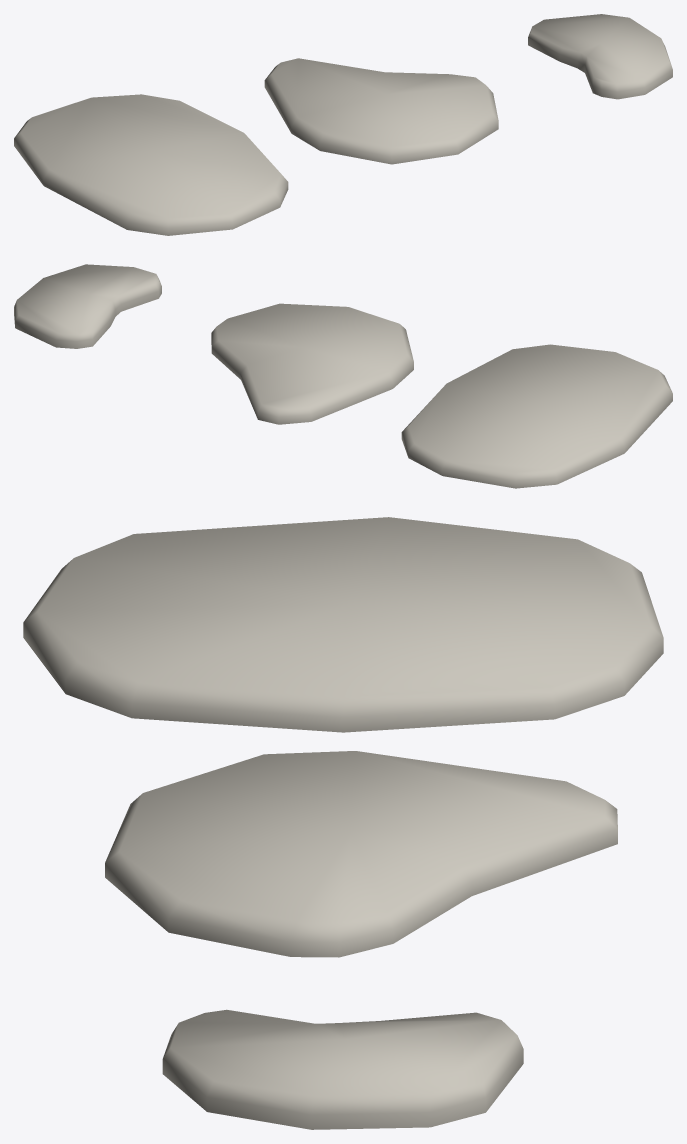
Rendered from SM_Dalles.FBX.
3 views of the same model, one above another, from view 1: azimuth 30°, elevation 25°; view 2: azimuth 150°, elevation 25°; view 3: azimuth 270°, elevation 25° (orthographic). The views are drawn at different scales.
Visible parts, largest first — view 1: Dalle01, Dalle02, Dalle03; view 2: Dalle01, Dalle02, Dalle03; view 3: Dalle01, Dalle02, Dalle03.
Part boxes in pixels (box(x1,y1,x2,y2)): Dalle01: box(14, 94, 288, 235); Dalle02: box(264, 58, 498, 164); Dalle03: box(528, 14, 672, 99); Dalle01: box(401, 344, 672, 488); Dalle02: box(211, 303, 413, 424); Dalle03: box(14, 264, 161, 348); Dalle01: box(23, 517, 663, 732); Dalle02: box(105, 751, 617, 957); Dalle03: box(162, 1009, 523, 1129).
Bounding box in the file's own units: 145 × 4.11 × 66.86.
1 material, 1 textured.
